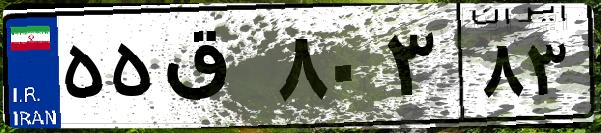0: (330, 28, 385, 110)
3: (385, 28, 445, 110), (525, 38, 570, 115)
5: (57, 26, 110, 100), (110, 28, 158, 98)
8: (270, 28, 330, 110), (475, 38, 525, 113)
ق: (158, 20, 270, 120)
